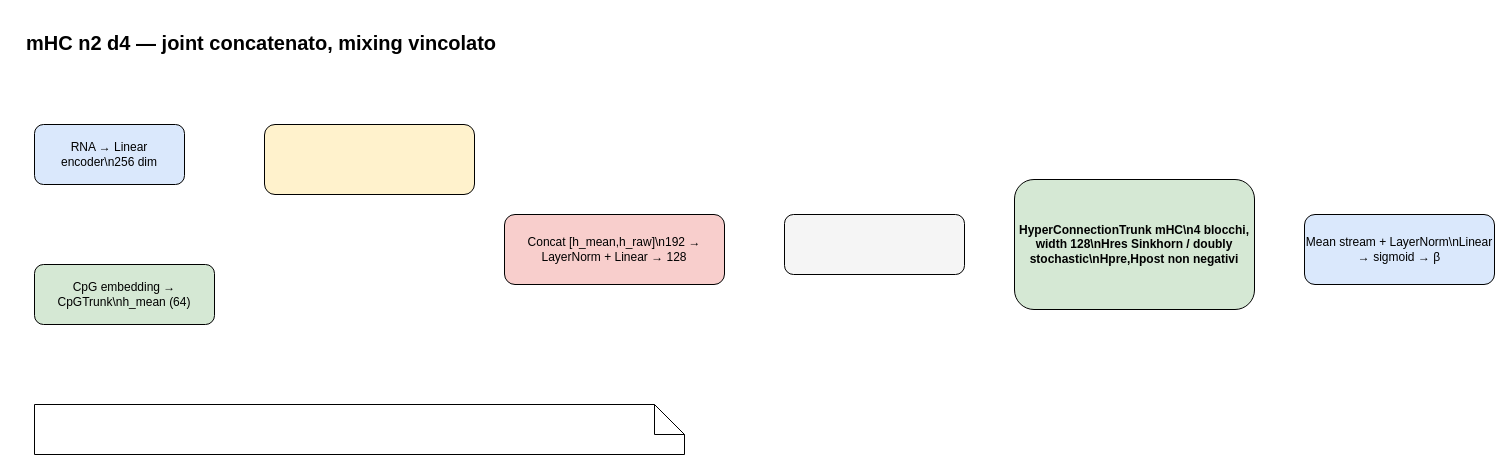
Image size: 1512x472. Some labels were removed from this diagram. The shapes that lost their labels are listed below. From the top down, each one's box as (x1, y1, x2, y2) in pixels, then its label:
(264, 124, 474, 194): RNA × CpG + concat\nRaw branch → h_raw (128)
(784, 214, 964, 274): Duplica in 2 stream anonimi
(34, 404, 684, 454): Stessi stream anonimi di HC; il vincolo mantiene il composite gain ≈1.
